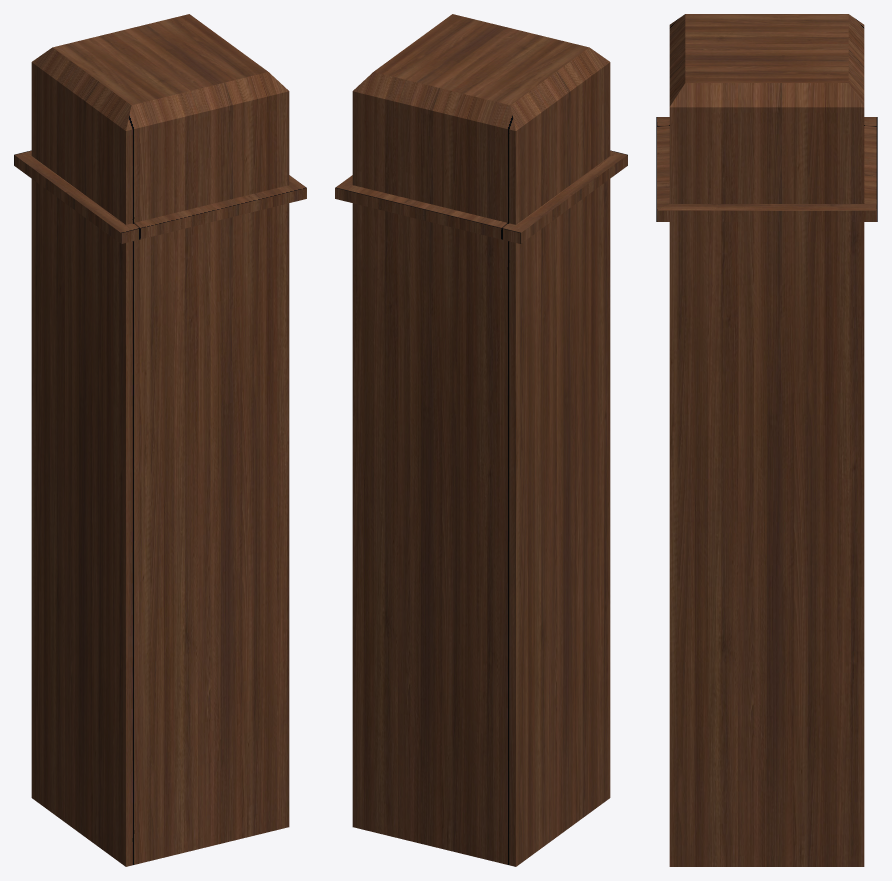
The model's file is wall1.FBX.
3 views of the same model, side by side, from view 1: azimuth 30°, elevation 25°; view 2: azimuth 150°, elevation 25°; view 3: azimuth 270°, elevation 25° (orthographic). The views are drawn at different scales.
Parts seen in each view (by area): view 1: Box001; view 2: Box001; view 3: Box001.
Boxes of the visible parts, x1,y1,x2,y2 form: Box001: [14, 14, 306, 866]; Box001: [335, 14, 627, 866]; Box001: [656, 14, 877, 866].
Size of the model in its own units: 1.14 by 4.4 by 1.14.
